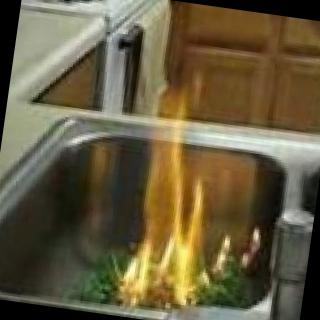fire: (116, 92, 240, 310), (194, 211, 268, 291)
